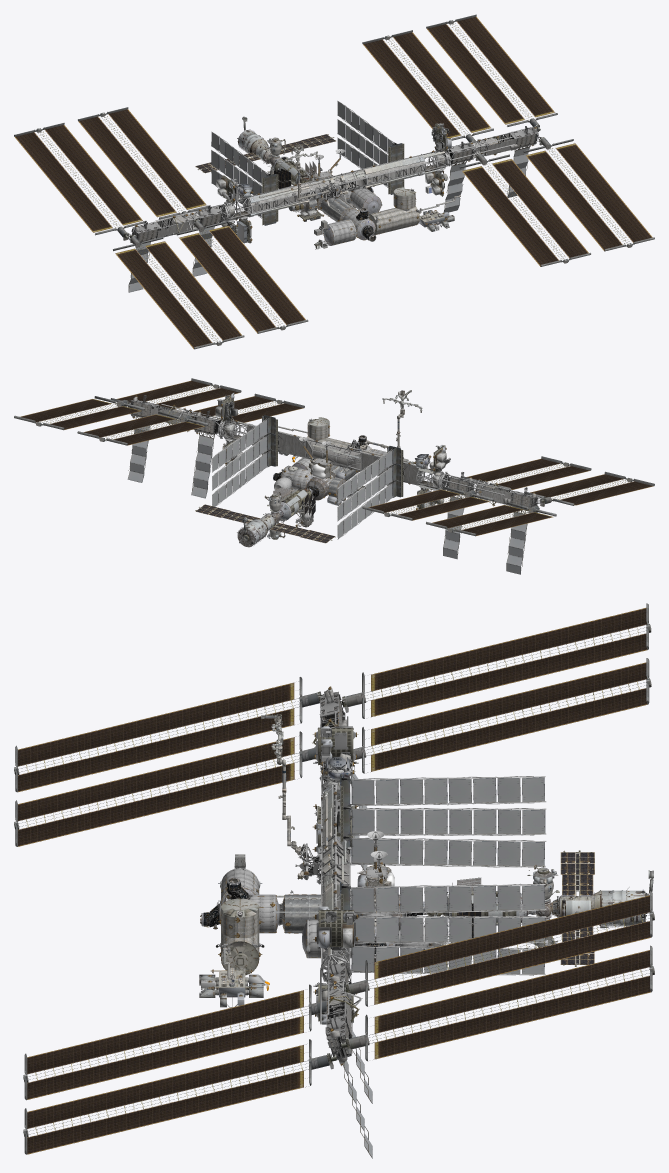
The model's file is ISS_stationary.gltf.
3 views of the same model, one above another, from view 1: azimuth 30°, elevation 25°; view 2: azimuth 150°, elevation 25°; view 3: azimuth 270°, elevation 25° (orthographic). The views are drawn at different scales.
Parts seen in each view (by area): view 1: 08 P6 Truss, 32 S6 Truss, 23 S4 Truss_02, 23 S4 Truss_01, 20 P4 Truss_01, 20 P4 Truss_02, 17 P1 Truss, 16 S1 Truss, 20 P4 Truss, 14 S0 Truss, 30 Kibo Space Laboratory (PSM) Pressurized Module, 23 S4 Truss (+6 smaller); view 2: 32 S6 Truss, 08 P6 Truss, 17 P1 Truss, 16 S1 Truss, 20 P4 Truss_02, 23 S4 Truss_02, 23 S4 Truss_01, 20 P4 Truss, 20 P4 Truss_01, 23 S4 Truss, 14 S0 Truss, 05 Zvezda (SM) Service Module (+10 smaller); view 3: 08 P6 Truss, 32 S6 Truss, 16 S1 Truss, 17 P1 Truss, 20 P4 Truss_01, 20 P4 Truss_02, 23 S4 Truss_02, 23 S4 Truss_01, 05 Zvezda (SM) Service Module, 43 Express Logistics Carrier (ELC) 3, 14 S0 Truss, 33 Kibo Space Laboratory Exposed Platform (+8 smaller).
Boxes of the visible parts, x1,y1,x2,y2 form: 08 P6 Truss: [426, 14, 654, 251]; 32 S6 Truss: [14, 122, 244, 349]; 23 S4 Truss_02: [78, 107, 208, 219]; 23 S4 Truss_01: [176, 220, 308, 333]; 20 P4 Truss_01: [459, 154, 590, 266]; 20 P4 Truss_02: [362, 30, 493, 142]; 17 P1 Truss: [337, 100, 425, 194]; 16 S1 Truss: [211, 131, 310, 225]; 20 P4 Truss: [443, 137, 514, 212]; 14 S0 Truss: [306, 169, 366, 216]; 30 Kibo Space Laboratory (PSM) Pressurized Module: [368, 206, 420, 234]; 23 S4 Truss: [155, 204, 228, 276]; 32 S6 Truss: [426, 471, 654, 574]; 08 P6 Truss: [14, 378, 241, 482]; 17 P1 Truss: [212, 415, 305, 506]; 16 S1 Truss: [337, 446, 423, 539]; 20 P4 Truss_02: [77, 411, 208, 445]; 23 S4 Truss_02: [362, 486, 493, 520]; 23 S4 Truss_01: [460, 456, 591, 489]; 20 P4 Truss: [161, 404, 225, 498]; 20 P4 Truss_01: [190, 393, 304, 425]; 23 S4 Truss: [440, 471, 508, 559]; 14 S0 Truss: [305, 439, 361, 472]; 05 Zvezda (SM) Service Module: [237, 511, 284, 547]; 08 P6 Truss: [23, 945, 654, 1158]; 32 S6 Truss: [14, 603, 651, 809]; 16 S1 Truss: [321, 774, 546, 867]; 17 P1 Truss: [321, 882, 546, 975]; 20 P4 Truss_01: [23, 984, 326, 1100]; 20 P4 Truss_02: [348, 891, 654, 1006]; 23 S4 Truss_02: [353, 658, 651, 773]; 23 S4 Truss_01: [14, 731, 316, 846]; 05 Zvezda (SM) Service Module: [533, 870, 653, 928]; 43 Express Logistics Carrier (ELC) 3: [313, 906, 359, 951]; 14 S0 Truss: [273, 834, 351, 912]; 33 Kibo Space Laboratory Exposed Platform: [199, 968, 263, 1007].
Bounding box in the file's own units: 112 × 30.36 × 76.48.
47 materials, 29 textured.
